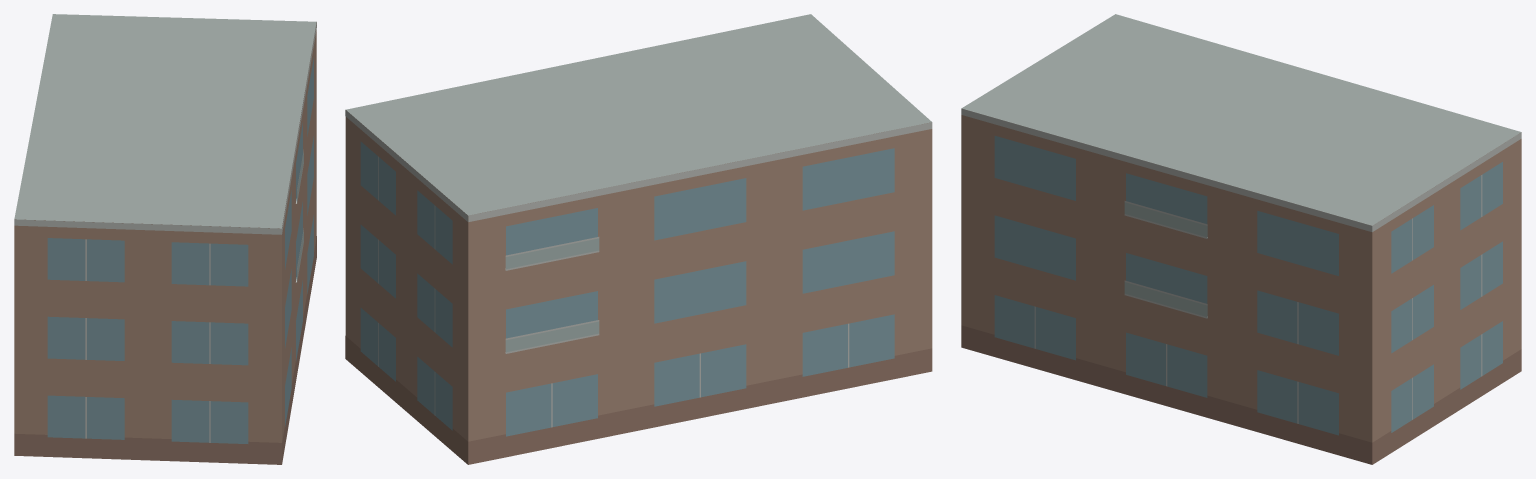
The model's file is survey-upis-32706676.glb.
The picture shows the model from 3 angles, left to right: view 1: azimuth 30°, elevation 25°; view 2: azimuth 150°, elevation 25°; view 3: azimuth 270°, elevation 25°; orthographic projection. The views are drawn at different scales.
Parts seen in each view (by area): view 1: survey-upis-32706676.tmp; view 2: survey-upis-32706676.tmp; view 3: survey-upis-32706676.tmp.
Boxes of the visible parts, x1,y1,x2,y2 form: survey-upis-32706676.tmp: [14, 14, 316, 464]; survey-upis-32706676.tmp: [345, 14, 932, 464]; survey-upis-32706676.tmp: [961, 14, 1521, 464].
Size of the model in its own units: 17.4 by 9.15 by 19.45.
